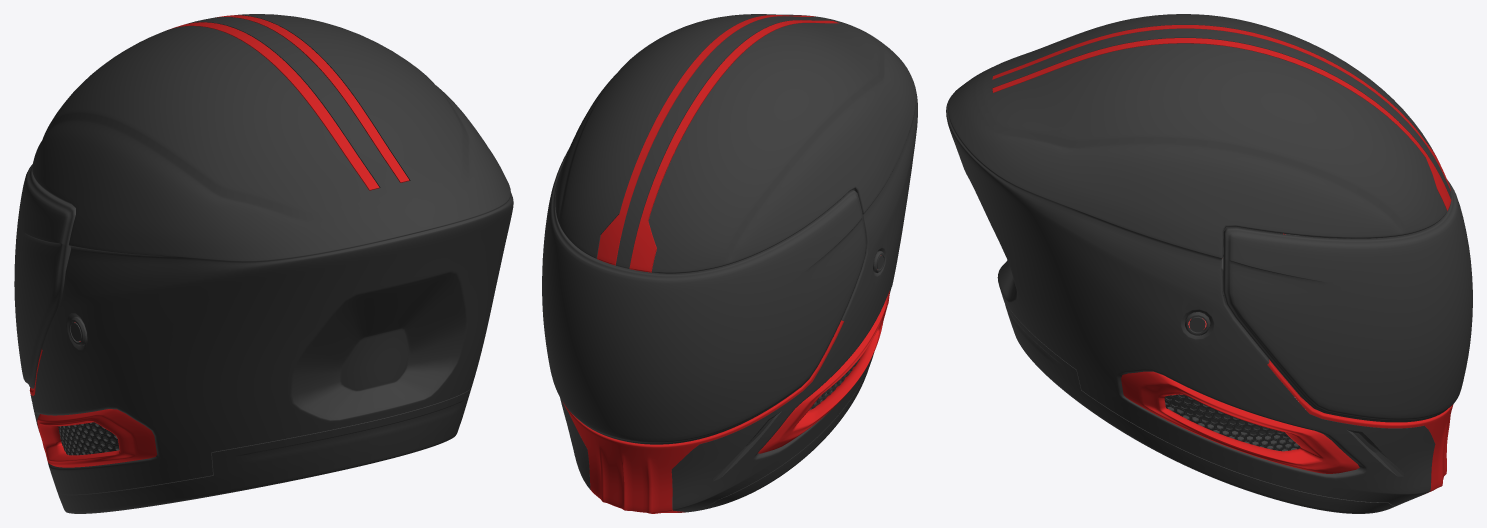
File: motor_helmet.glb
3 renders of one model, left to right at view 1: azimuth 30°, elevation 25°; view 2: azimuth 150°, elevation 25°; view 3: azimuth 270°, elevation 25°, orthographic. The views are drawn at different scales.
Parts seen in each view (by area): view 1: Body_LP, Glass_LP, TopStripes_LP, PatternStripes_LP, Pattern_LP; view 2: Body_LP, Glass_LP, BottomStriper_LP, TopStripes_LP, PatternStripes_LP; view 3: Body_LP, Glass_LP, PatternStripes_LP, TopStripes_LP, BottomStriper_LP, Pattern_LP.
Part boxes in pixels (x1,y1,x2,y2): Body_LP: (30, 14, 513, 513); Glass_LP: (14, 164, 75, 388); TopStripes_LP: (170, 15, 409, 190); PatternStripes_LP: (37, 409, 156, 467); Pattern_LP: (58, 422, 119, 455); Body_LP: (555, 14, 917, 512); Glass_LP: (542, 149, 866, 444); BottomStriper_LP: (563, 320, 843, 513); TopStripes_LP: (597, 15, 838, 272); PatternStripes_LP: (758, 290, 889, 453); Body_LP: (946, 14, 1451, 513); Glass_LP: (1223, 179, 1472, 422); PatternStripes_LP: (1121, 371, 1359, 473); TopStripes_LP: (992, 25, 1451, 210); BottomStriper_LP: (1267, 233, 1453, 492); Pattern_LP: (1164, 255, 1300, 451).
Bounding box in the file's own units: 0.7268 × 0.9528 × 0.9968.
1 material, 1 textured.
